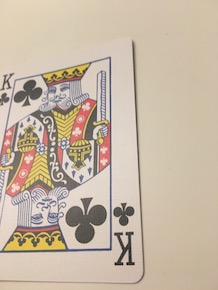KingOfClubs: (1, 35, 148, 286)
